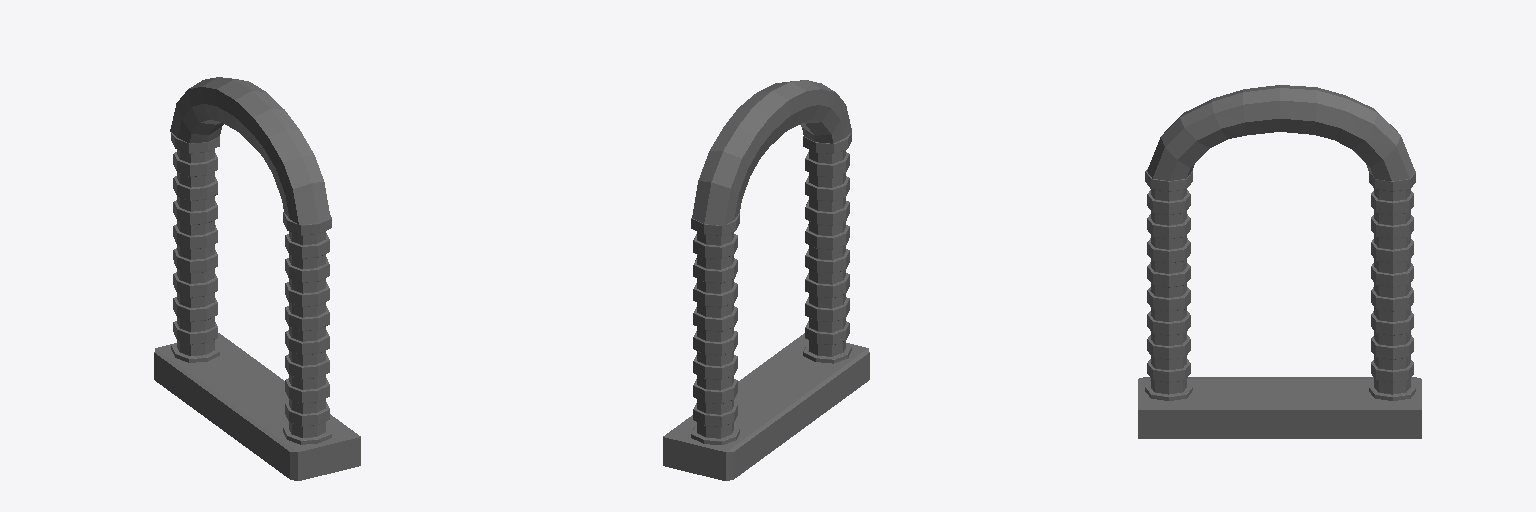
File: window.obj
The picture shows the model from 3 angles: view 1: azimuth 30°, elevation 25°; view 2: azimuth 150°, elevation 25°; view 3: azimuth 270°, elevation 25°; orthographic projection.
Parts seen in each view (by area): view 1: Mesh; view 2: Mesh; view 3: Mesh.
Boxes of the visible parts, box(x1,y1,x2,y2) form: Mesh: box(154, 77, 360, 480); Mesh: box(663, 80, 869, 480); Mesh: box(1138, 85, 1421, 438).
Size of the model in its own units: 0.104 by 0.4854 by 0.3772.